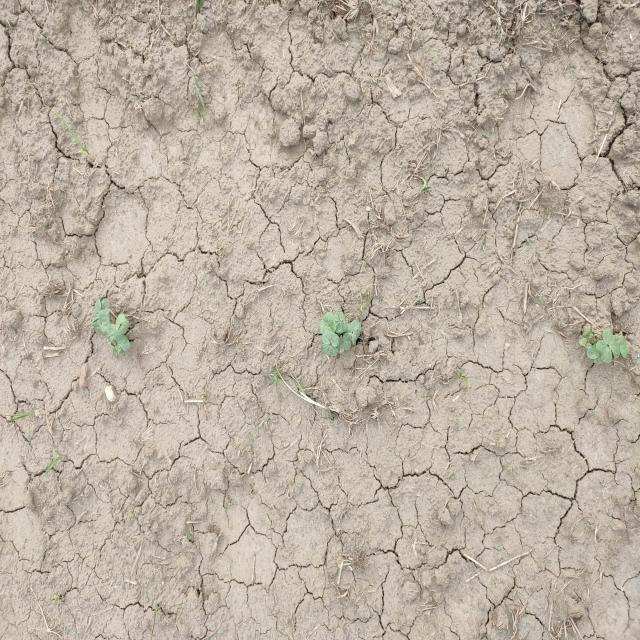seedling_s2: (602, 329, 620, 358), (596, 340, 612, 363), (319, 312, 333, 334), (321, 331, 340, 347), (98, 309, 110, 333), (115, 334, 131, 351), (351, 319, 361, 344), (107, 324, 122, 340), (321, 343, 338, 356), (619, 334, 628, 358), (92, 299, 101, 322), (587, 344, 600, 359), (578, 335, 591, 349), (104, 331, 116, 346), (119, 318, 130, 334), (323, 320, 337, 332), (92, 319, 103, 334), (332, 311, 347, 322), (115, 313, 125, 329), (335, 321, 348, 333), (101, 299, 110, 316), (582, 330, 593, 343), (343, 333, 351, 350), (345, 323, 352, 341), (115, 342, 124, 354), (338, 336, 344, 354), (594, 354, 602, 365)
